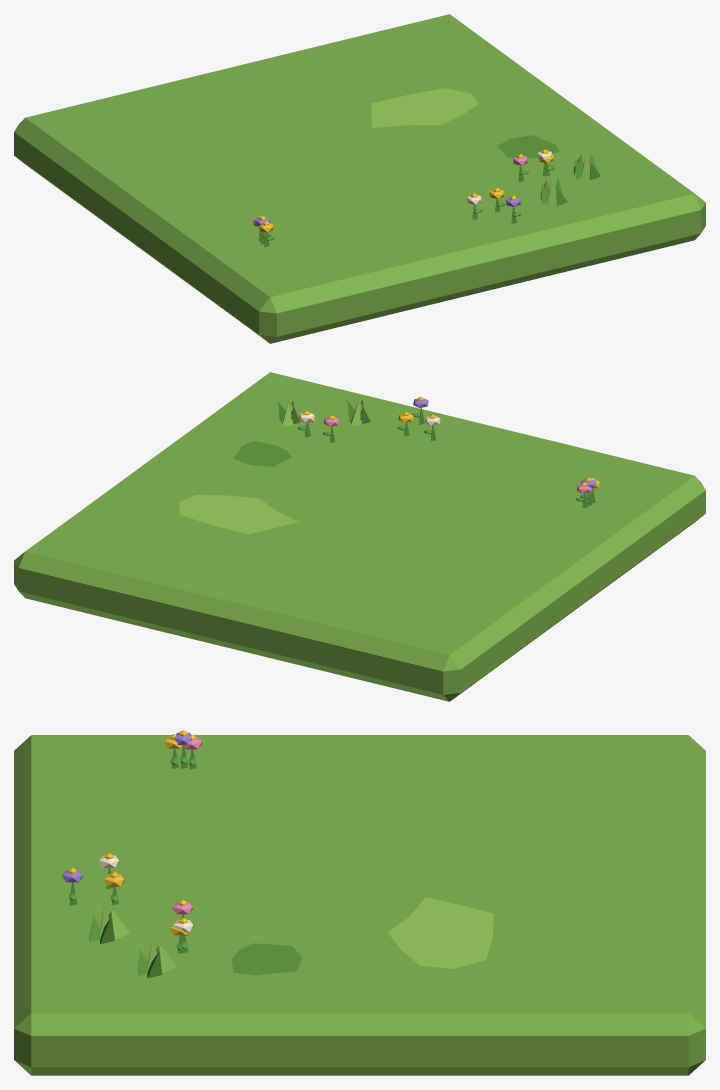
The model's file is tile_grass_b.fbx.
3 views of the same model, one above another, from view 1: azimuth 30°, elevation 25°; view 2: azimuth 150°, elevation 25°; view 3: azimuth 270°, elevation 25° (orthographic). The views are drawn at different scales.
Parts seen in each view (by area): view 1: tile_grass_b; view 2: tile_grass_b; view 3: tile_grass_b.
Boxes of the visible parts, left/top/right/bottom form: tile_grass_b: left=14, top=14, right=705, bottom=343; tile_grass_b: left=14, top=372, right=705, bottom=701; tile_grass_b: left=14, top=730, right=705, bottom=1075.
Size of the model in its own units: 1 by 0.1591 by 1.
